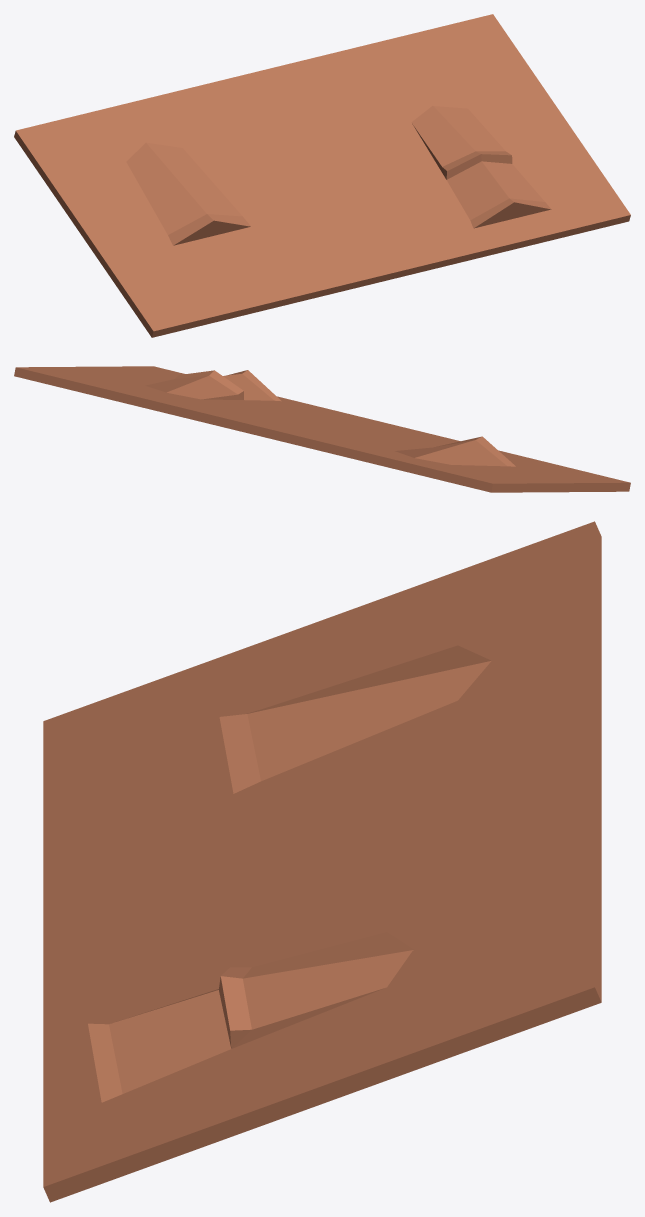
File: SM_Roof_Small_3m_Empire.fbx
3 views of the same model, one above another, from view 1: azimuth 30°, elevation 25°; view 2: azimuth 150°, elevation 25°; view 3: azimuth 270°, elevation 25° (orthographic). The views are drawn at different scales.
Visible parts, largest first — view 1: SM_Roof_Small_3m_Empire; view 2: SM_Roof_Small_3m_Empire; view 3: SM_Roof_Small_3m_Empire.
Boxes of the visible parts, <box> form: SM_Roof_Small_3m_Empire: <box>14,14,630,337</box>; SM_Roof_Small_3m_Empire: <box>14,366,630,492</box>; SM_Roof_Small_3m_Empire: <box>43,521,601,1202</box>.
Size of the model in its own units: 3 by 0.6467 by 1.52.
